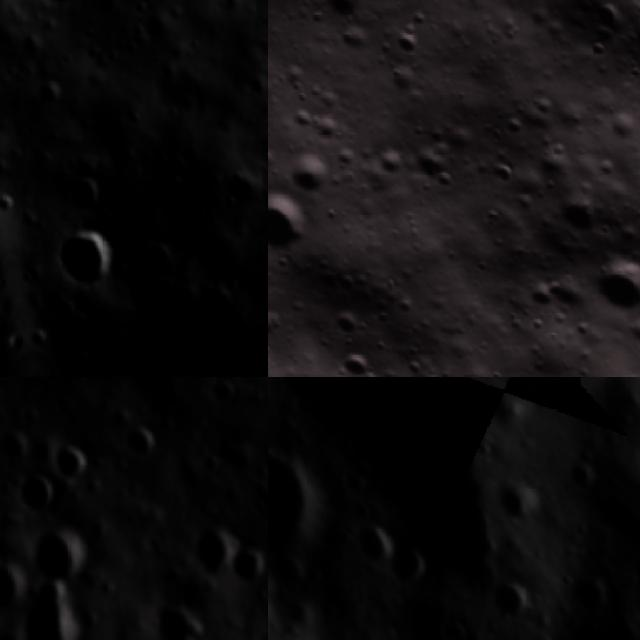crater: (268, 410, 353, 592), (40, 210, 140, 308), (582, 473, 640, 640), (268, 169, 328, 283), (273, 134, 351, 212), (370, 528, 444, 600), (550, 187, 623, 259), (335, 505, 406, 577), (582, 241, 640, 328), (35, 348, 201, 377), (481, 464, 549, 533), (23, 522, 92, 586), (558, 557, 624, 623), (471, 377, 538, 438), (478, 567, 541, 630), (305, 0, 399, 42), (54, 165, 116, 226), (23, 587, 89, 640), (187, 521, 233, 584), (46, 437, 103, 485), (12, 471, 64, 522), (223, 162, 268, 218), (150, 607, 209, 640), (231, 543, 268, 595), (426, 605, 478, 640), (126, 426, 164, 469), (624, 439, 640, 511), (32, 0, 89, 15)
